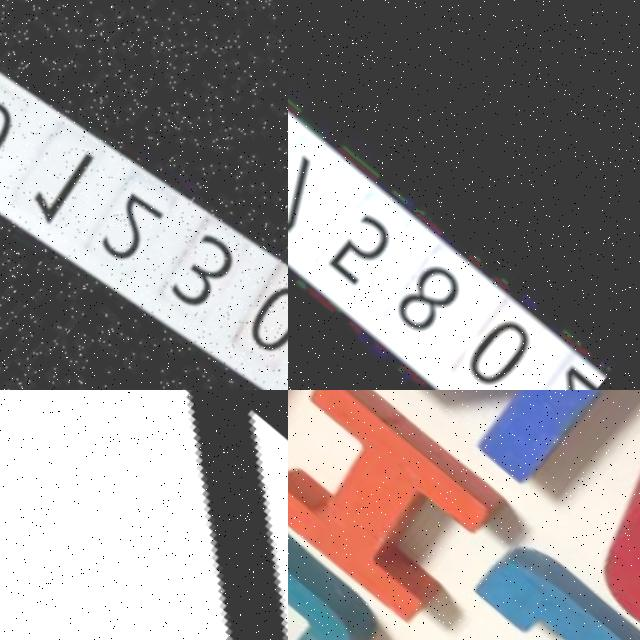0: (220, 255, 288, 374), (454, 301, 544, 390), (0, 68, 42, 195)
1: (0, 114, 118, 244)
2: (0, 390, 288, 640), (70, 169, 184, 286), (519, 352, 603, 390)
3: (141, 207, 262, 333)
5: (314, 198, 403, 294)
7: (288, 138, 341, 243)
8: (380, 245, 476, 346)
D: (288, 492, 399, 640)
I: (288, 390, 515, 631)
J: (423, 534, 640, 640)
N: (329, 390, 640, 497)
O: (561, 413, 640, 640)
